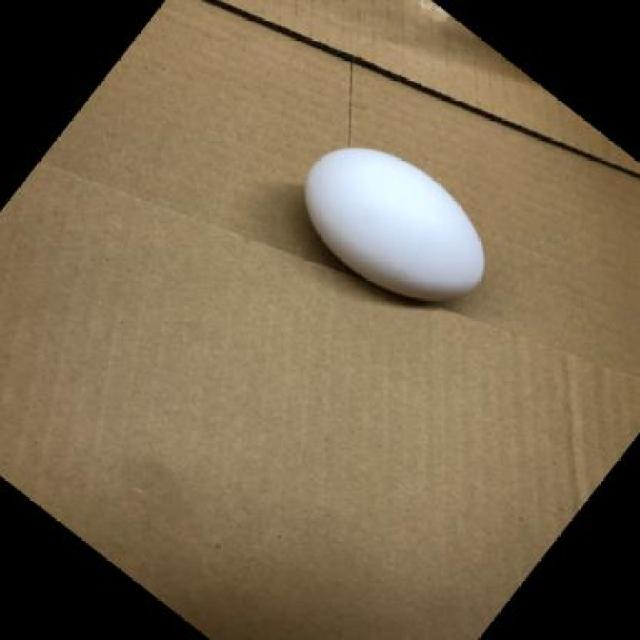egg: (295, 144, 494, 309)
